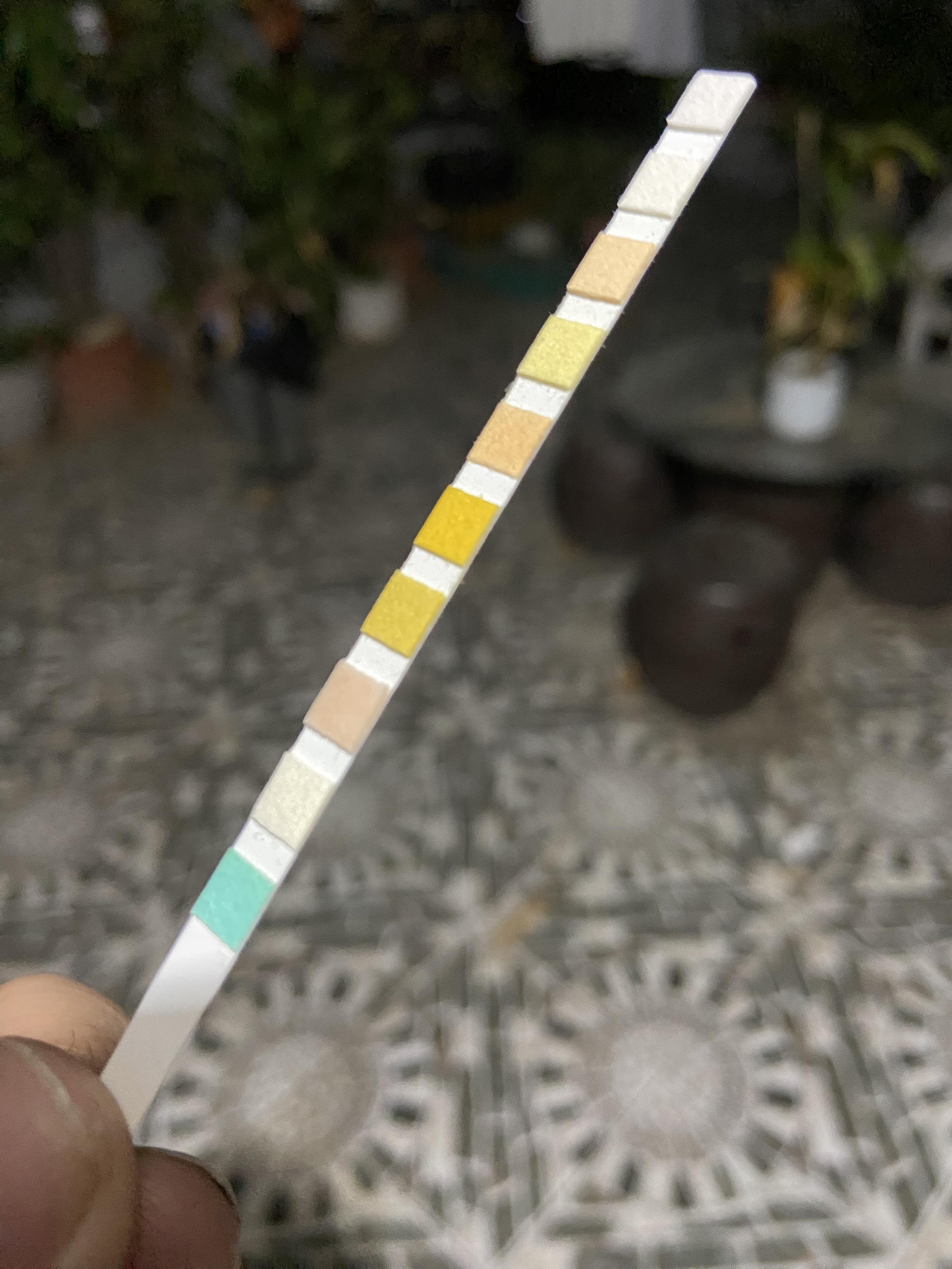Bilirubin: (270, 777, 311, 827)
Blood: (437, 503, 476, 546)
Glucose: (211, 875, 256, 925)
Ketone: (327, 682, 366, 735)
Leukocytes: (693, 78, 729, 121)
Nitrite: (641, 164, 677, 208)
Protein: (542, 326, 581, 370)
SpGravity: (382, 588, 422, 636)
Urobilinogen: (589, 248, 626, 291)
pH: (491, 414, 526, 464)
strip: (99, 75, 760, 1103)
